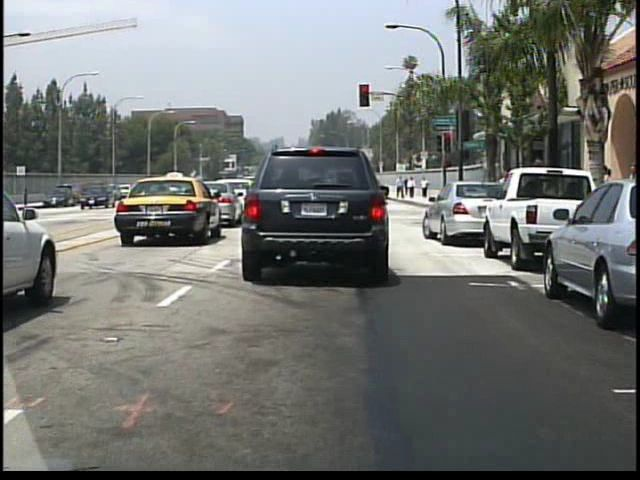person: (592, 163, 619, 235), (420, 177, 430, 200), (397, 175, 406, 199), (409, 176, 417, 200)
